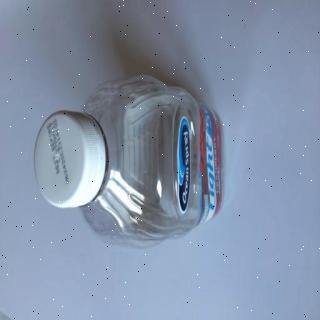Plastic-bottle: (34, 72, 229, 251)
